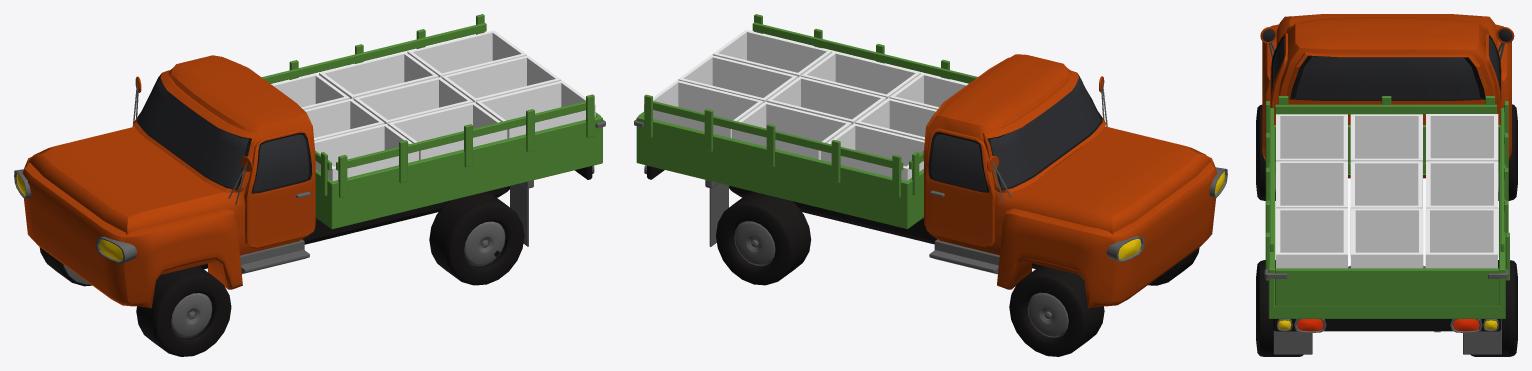
File: mesh_farmtruckTransition.fbx
3 renders of one model, left to right at view 1: azimuth 30°, elevation 25°; view 2: azimuth 150°, elevation 25°; view 3: azimuth 270°, elevation 25°, orthographic. The views are drawn at different scales.
Parts seen in each view (by area): view 1: mesh_farmtruck, mesh_farmtruck_tires; view 2: mesh_farmtruck, mesh_farmtruck_tires; view 3: mesh_farmtruck, mesh_farmtruck_tires.
Boxes of the visible parts, box(x1,y1,x2,y2) form: mesh_farmtruck: box(14, 14, 605, 308); mesh_farmtruck_tires: box(39, 192, 524, 356); mesh_farmtruck: box(634, 14, 1227, 308); mesh_farmtruck_tires: box(716, 191, 1199, 356); mesh_farmtruck: box(1260, 14, 1514, 354); mesh_farmtruck_tires: box(1256, 104, 1517, 356).
Bounding box in the file's own units: 653 × 257 × 277.
